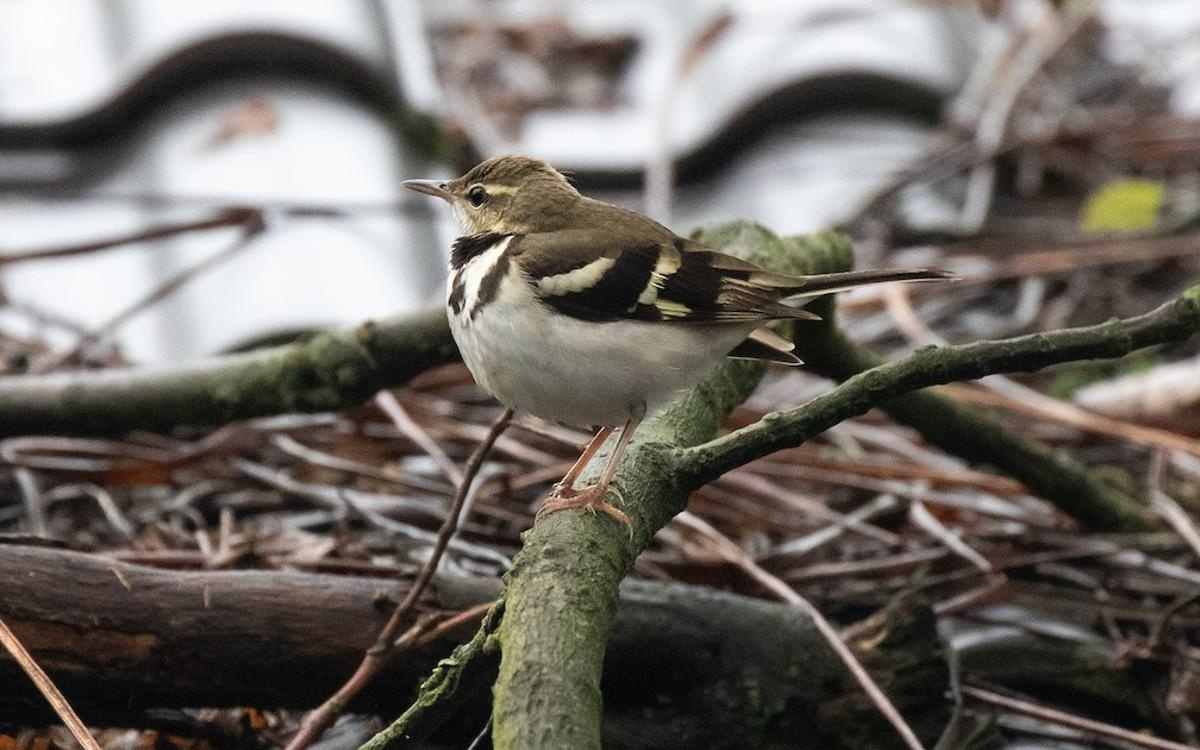wagtail: (413, 135, 816, 426)
